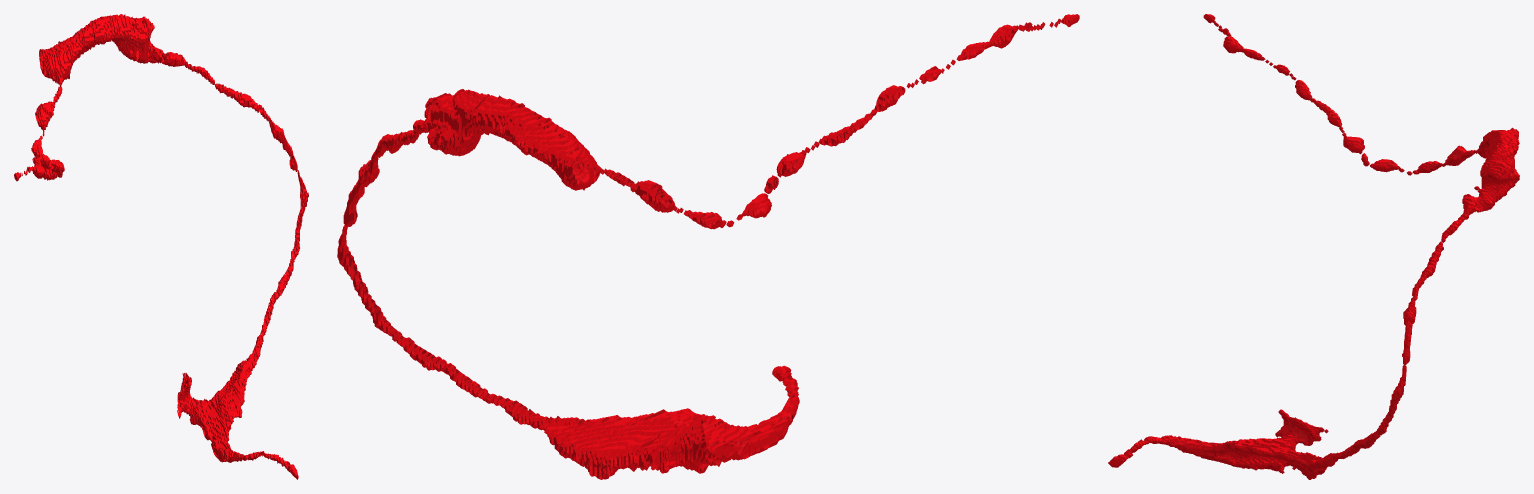
The model's file is SVV_SMDDR.gltf.
The picture shows the model from 3 angles, left to right: view 1: azimuth 30°, elevation 25°; view 2: azimuth 150°, elevation 25°; view 3: azimuth 270°, elevation 25°; orthographic projection. The views are drawn at different scales.
Parts seen in each view (by area): view 1: SMDDR; view 2: SMDDR; view 3: SMDDR.
Boxes of the visible parts, x1=… form: SMDDR: x1=14, y1=14, x2=308, y2=479; SMDDR: x1=337, y1=14, x2=1079, y2=479; SMDDR: x1=1108, y1=14, x2=1519, y2=479.
Bounding box in the file's own units: 147346 × 121361 × 132806.
